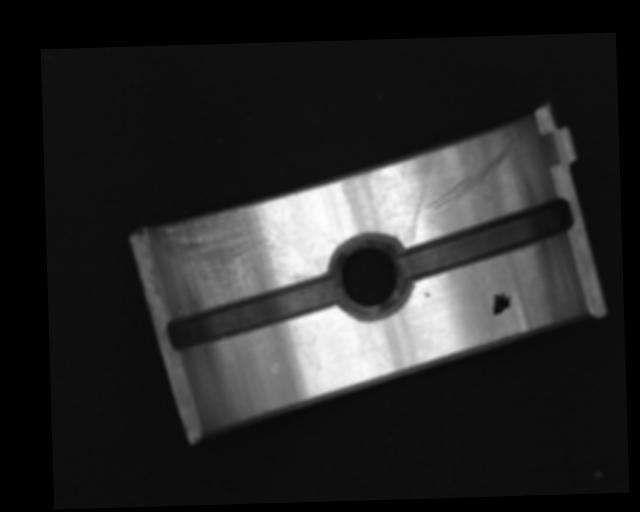blot: (492, 291, 512, 316)
bruise: (270, 360, 280, 374), (425, 292, 430, 298)
gap: (394, 200, 575, 281), (163, 276, 340, 350)
hole: (330, 232, 410, 319)
nick: (411, 128, 524, 218)
scratch: (153, 205, 314, 296)
